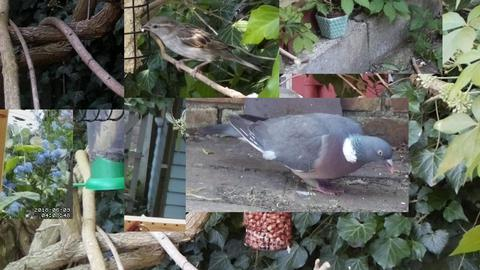sparrow: (139, 15, 264, 83)
wood pigeon: (201, 113, 394, 197)
